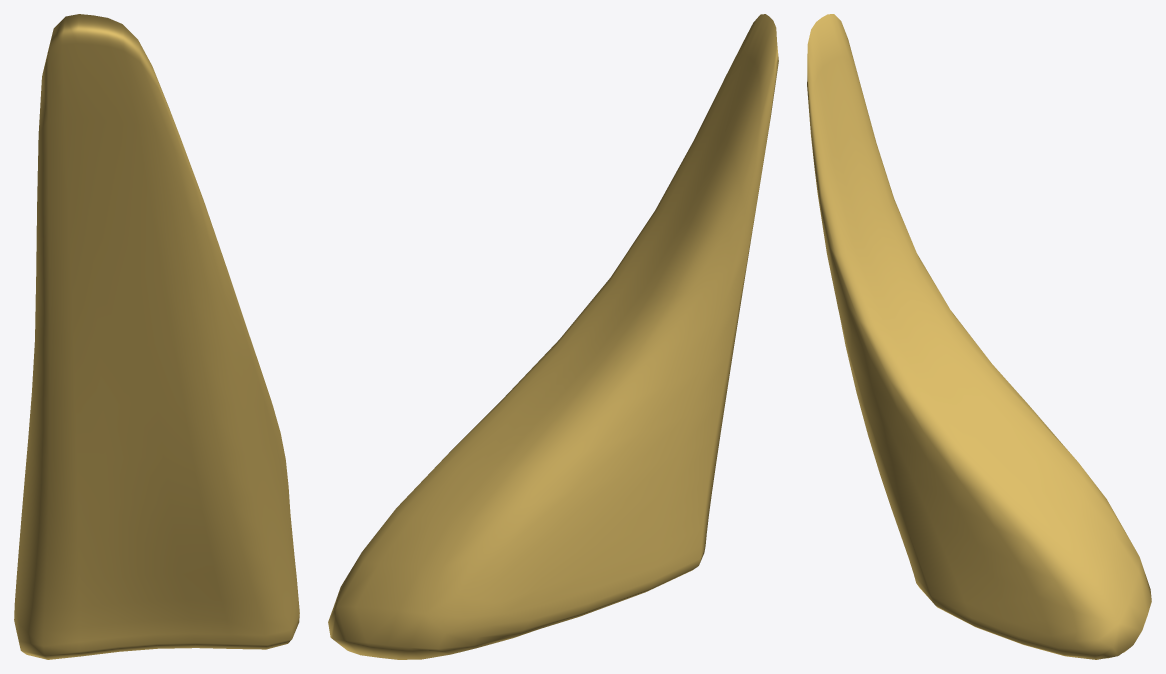
3 renders of one model, left to right at view 1: azimuth 30°, elevation 25°; view 2: azimuth 150°, elevation 25°; view 3: azimuth 270°, elevation 25°, orthographic. The views are drawn at different scales.
Visible parts, largest first — view 1: 左侧髌下脂肪垫; view 2: 左侧髌下脂肪垫; view 3: 左侧髌下脂肪垫.
Boxes of the visible parts, x1=… form: 左侧髌下脂肪垫: x1=14, y1=14, x2=299, y2=659; 左侧髌下脂肪垫: x1=328, y1=14, x2=778, y2=659; 左侧髌下脂肪垫: x1=807, y1=14, x2=1151, y2=659.
Bounding box in the file's own units: 0.02 × 0.0361 × 0.0216.
